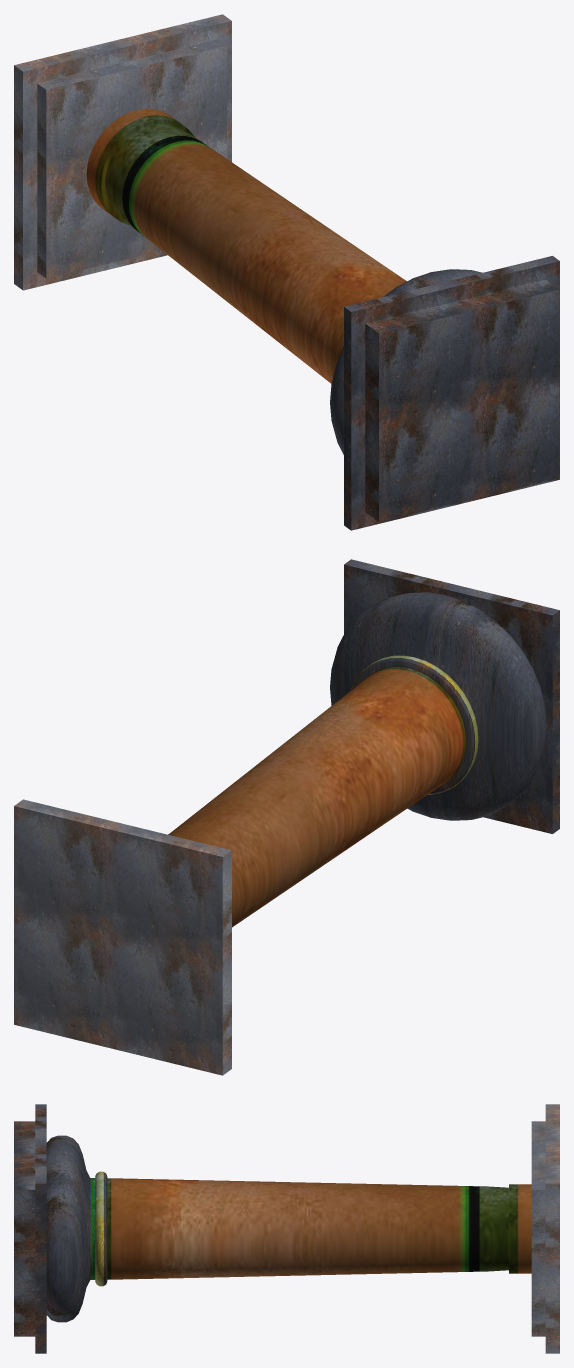
File: mdl_Krank_minoan_column.glb
3 renders of one model, top to bottom at view 1: azimuth 30°, elevation 25°; view 2: azimuth 150°, elevation 25°; view 3: azimuth 270°, elevation 25°, orthographic. The views are drawn at different scales.
Visible parts, largest first — view 1: Object_6, Object_3, Object_5, Object_4; view 2: Object_5, Object_3, Object_4, Object_6; view 3: Object_3, Object_4, Object_6, Object_5.
Part boxes in pixels (x1=…): Object_6: x1=344, y1=256, x2=559, y2=530; Object_3: x1=86, y1=109, x2=406, y2=383; Object_5: x1=14, y1=14, x2=231, y2=290; Object_4: x1=330, y1=269, x2=482, y2=454; Object_5: x1=14, y1=799, x2=231, y2=1075; Object_3: x1=168, y1=667, x2=466, y2=927; Object_4: x1=330, y1=592, x2=546, y2=820; Object_6: x1=344, y1=559, x2=559, y2=833; Object_3: x1=107, y1=1178, x2=531, y2=1279; Object_4: x1=46, y1=1135, x2=107, y2=1322; Object_6: x1=14, y1=1104, x2=46, y2=1353; Object_5: x1=531, y1=1104, x2=559, y2=1353.
Bounding box in the file's own units: 0.1476 × 0.1477 × 0.4296.
Materials: 4 (4 with a texture image).
